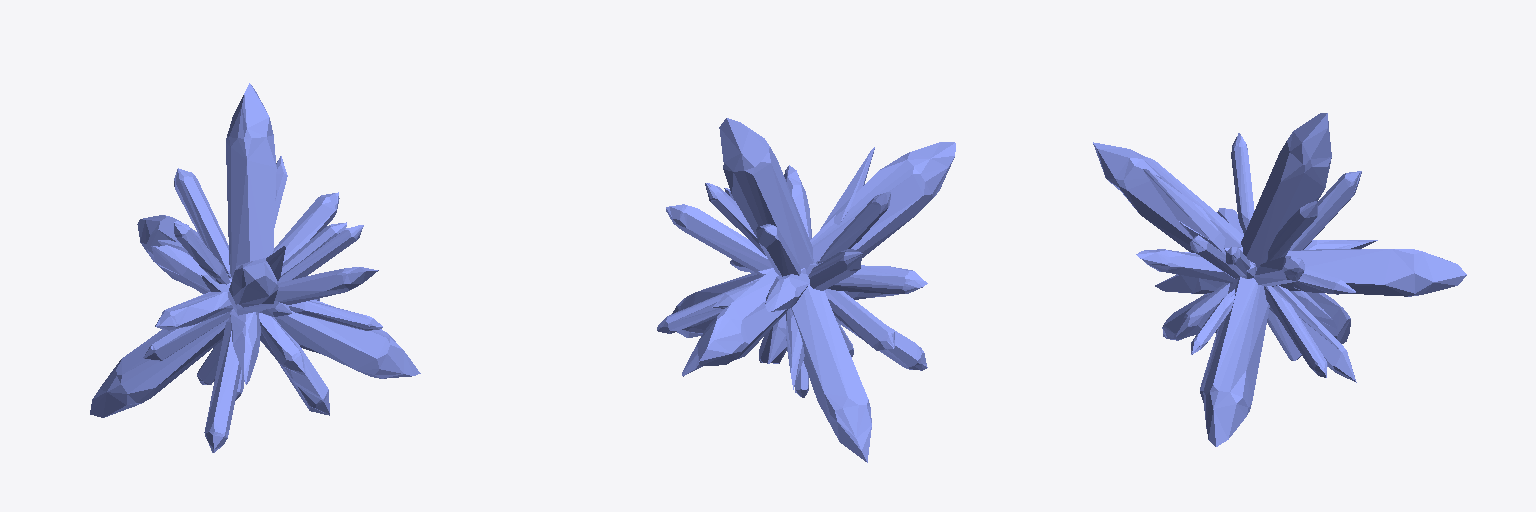
3 views of the same model, side by side, from view 1: azimuth 30°, elevation 25°; view 2: azimuth 150°, elevation 25°; view 3: azimuth 270°, elevation 25° (orthographic).
Visible parts, largest first — view 1: group2_group1_Trigonal_01_Untitled_016, group2_group1_Trigonal_01_Untitled_029, group2_group1_Trigonal_01_Untitled_026, group2_group1_Trigonal_02_Untitled_024, group2_group1_Trigonal_03_Untitled_020, group2_group1_Trigonal_02_Untitled_019, group2_group1_Trigonal_01_Untitled_027, group2_group1_Trigonal_06_Untitled_030, group2_group1_Trigonal_02_Untitled_018, group2_group1_Trigonal_01_Untitled_018, group2_group1_Trigonal_06_Untitled_035, group2_group1_Trigonal_06_Untitled_032 (+8 smaller); view 2: group2_group1_Trigonal_01_Untitled_026, group2_group1_Trigonal_01_Untitled_016, group2_group1_Trigonal_01_Untitled_027, group2_group1_Trigonal_01_Untitled_028, group2_group1_Trigonal_02_Untitled_018, group2_group1_Trigonal_06_Untitled_030, group2_group1_Trigonal_05_Untitled_028, group2_group1_Trigonal_03_Untitled_021, group2_group1_Trigonal_06_Untitled_034, group2_group1_Trigonal_03_Untitled_022, group2_group1_Trigonal_03_Untitled_020, group2_group1_Trigonal_01_Untitled_029 (+6 smaller); view 3: group2_group1_Trigonal_01_Untitled_029, group2_group1_Trigonal_01_Untitled_016, group2_group1_Trigonal_01_Untitled_028, group2_group1_Trigonal_01_Untitled_027, group2_group1_Trigonal_03_Untitled_021, group2_group1_Trigonal_06_Untitled_033, group2_group1_Trigonal_02_Untitled_019, group2_group1_Trigonal_05_Untitled_033, group2_group1_Trigonal_03_Untitled_020, group2_group1_Trigonal_06_Untitled_034, group2_group1_Trigonal_05_Untitled_031, group2_group1_Trigonal_02_Untitled_018 (+10 smaller).
Boxes of the visible parts, box(x1,y1,x2,y2) form: group2_group1_Trigonal_01_Untitled_016: box(226, 83, 276, 278); group2_group1_Trigonal_01_Untitled_029: box(229, 277, 420, 378); group2_group1_Trigonal_01_Untitled_026: box(90, 318, 228, 417); group2_group1_Trigonal_02_Untitled_024: box(204, 317, 240, 452); group2_group1_Trigonal_03_Untitled_020: box(174, 168, 229, 273); group2_group1_Trigonal_02_Untitled_019: box(275, 267, 378, 304); group2_group1_Trigonal_01_Untitled_027: box(228, 258, 278, 315); group2_group1_Trigonal_06_Untitled_030: box(155, 292, 232, 330); group2_group1_Trigonal_02_Untitled_018: box(273, 192, 339, 262); group2_group1_Trigonal_01_Untitled_018: box(230, 308, 260, 384); group2_group1_Trigonal_06_Untitled_035: box(259, 313, 305, 376); group2_group1_Trigonal_06_Untitled_032: box(278, 331, 329, 415); group2_group1_Trigonal_01_Untitled_026: box(791, 284, 871, 462); group2_group1_Trigonal_01_Untitled_016: box(719, 118, 813, 269); group2_group1_Trigonal_01_Untitled_027: box(810, 142, 955, 262); group2_group1_Trigonal_01_Untitled_028: box(697, 268, 805, 365); group2_group1_Trigonal_02_Untitled_018: box(666, 204, 772, 276); group2_group1_Trigonal_06_Untitled_030: box(828, 265, 927, 293); group2_group1_Trigonal_05_Untitled_028: box(824, 289, 894, 350); group2_group1_Trigonal_03_Untitled_021: box(767, 147, 874, 363); group2_group1_Trigonal_06_Untitled_034: box(818, 192, 890, 263); group2_group1_Trigonal_03_Untitled_022: box(808, 249, 862, 290); group2_group1_Trigonal_03_Untitled_020: box(756, 224, 800, 276); group2_group1_Trigonal_01_Untitled_029: box(672, 262, 817, 337); group2_group1_Trigonal_01_Untitled_029: box(1203, 277, 1269, 446); group2_group1_Trigonal_01_Untitled_016: box(1241, 113, 1331, 268); group2_group1_Trigonal_01_Untitled_028: box(1272, 249, 1466, 296); group2_group1_Trigonal_01_Untitled_027: box(1093, 142, 1243, 254); group2_group1_Trigonal_03_Untitled_021: box(1143, 169, 1275, 314); group2_group1_Trigonal_06_Untitled_033: box(1264, 286, 1327, 377); group2_group1_Trigonal_02_Untitled_019: box(1136, 249, 1235, 283); group2_group1_Trigonal_05_Untitled_033: box(1273, 285, 1356, 382); group2_group1_Trigonal_03_Untitled_020: box(1289, 171, 1361, 250); group2_group1_Trigonal_06_Untitled_034: box(1231, 133, 1254, 233); group2_group1_Trigonal_05_Untitled_031: box(1267, 201, 1317, 261); group2_group1_Trigonal_02_Untitled_018: box(1254, 256, 1304, 285).
Size of the model in its own units: 42.87 by 46.76 by 52.39.